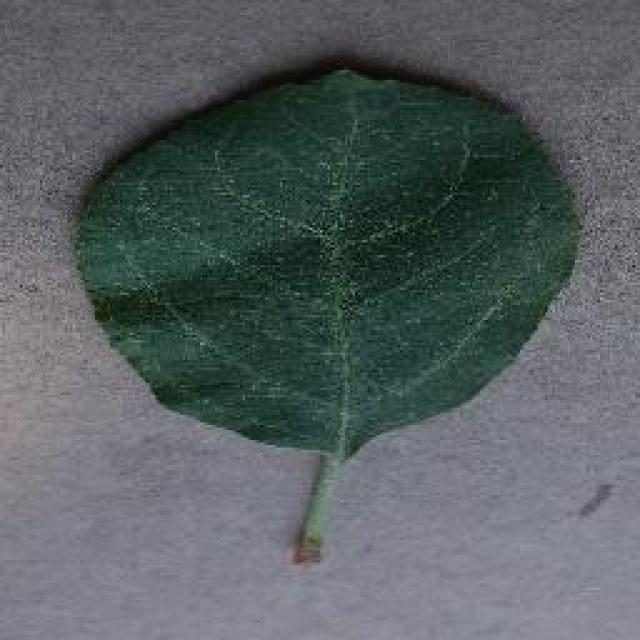apple healthy: (70, 55, 582, 563)
